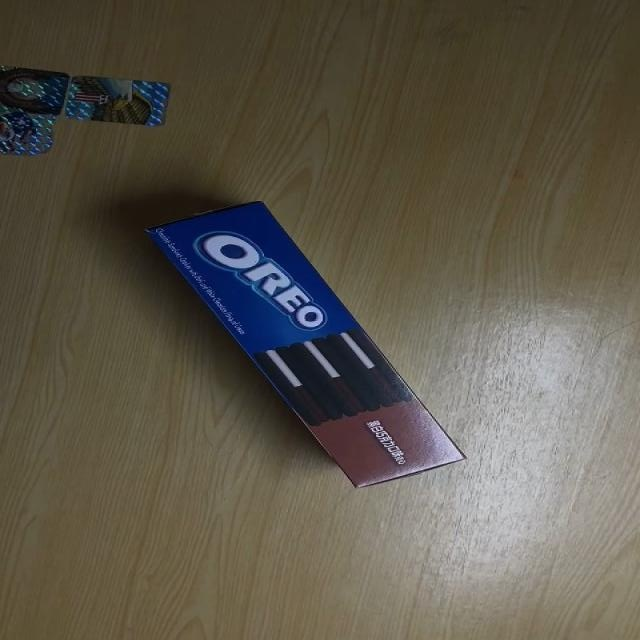Oreo: (147, 202, 465, 488)
